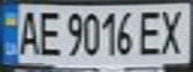0: (81, 9, 100, 57)
1: (100, 9, 121, 56)
6: (115, 8, 139, 56)
9: (60, 9, 84, 57)
A: (12, 7, 42, 56)
E: (33, 7, 63, 57), (136, 8, 166, 57)
X: (157, 6, 190, 56)
